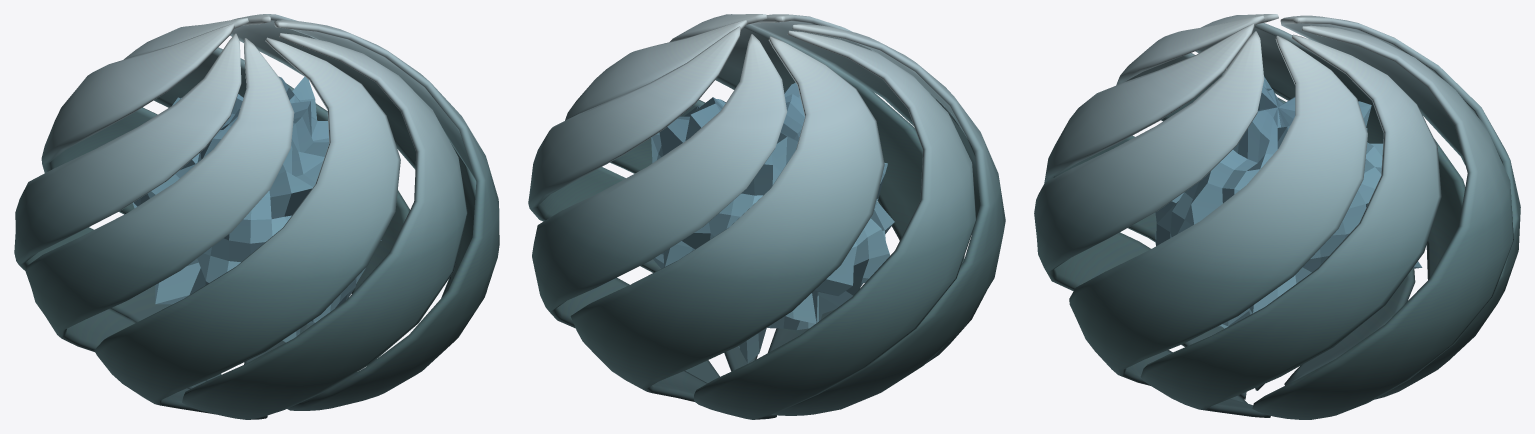
File: UpgradeItem.fbx
3 views of the same model, side by side, from view 1: azimuth 30°, elevation 25°; view 2: azimuth 150°, elevation 25°; view 3: azimuth 270°, elevation 25° (orthographic).
Parts seen in each view (by area): view 1: ItemUpgrade, CoreUpgrade; view 2: ItemUpgrade, CoreUpgrade; view 3: ItemUpgrade, CoreUpgrade.
Part boxes in pixels (x1,y1,x2,y2): ItemUpgrade: (14, 14, 499, 419); CoreUpgrade: (132, 76, 381, 342); ItemUpgrade: (528, 14, 1005, 419); CoreUpgrade: (651, 83, 894, 363); ItemUpgrade: (1034, 14, 1520, 419); CoreUpgrade: (1155, 76, 1422, 328).
Bounding box in the file's own units: 1.58 × 1.34 × 1.56.
